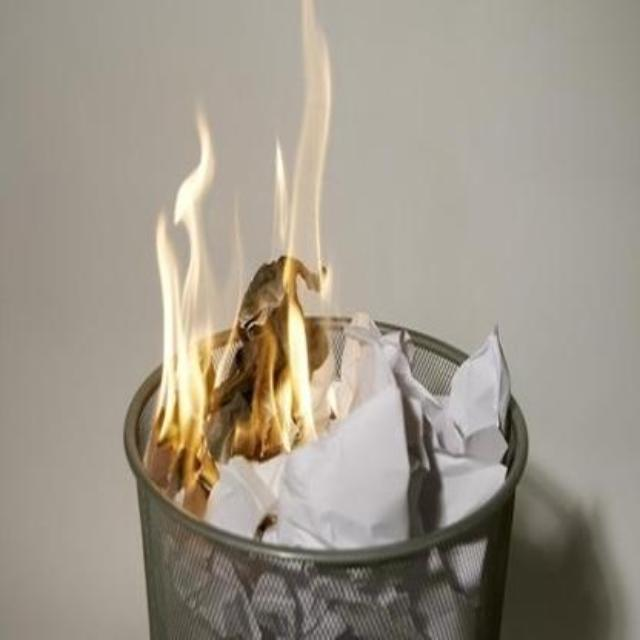Fire: (140, 0, 342, 478)
